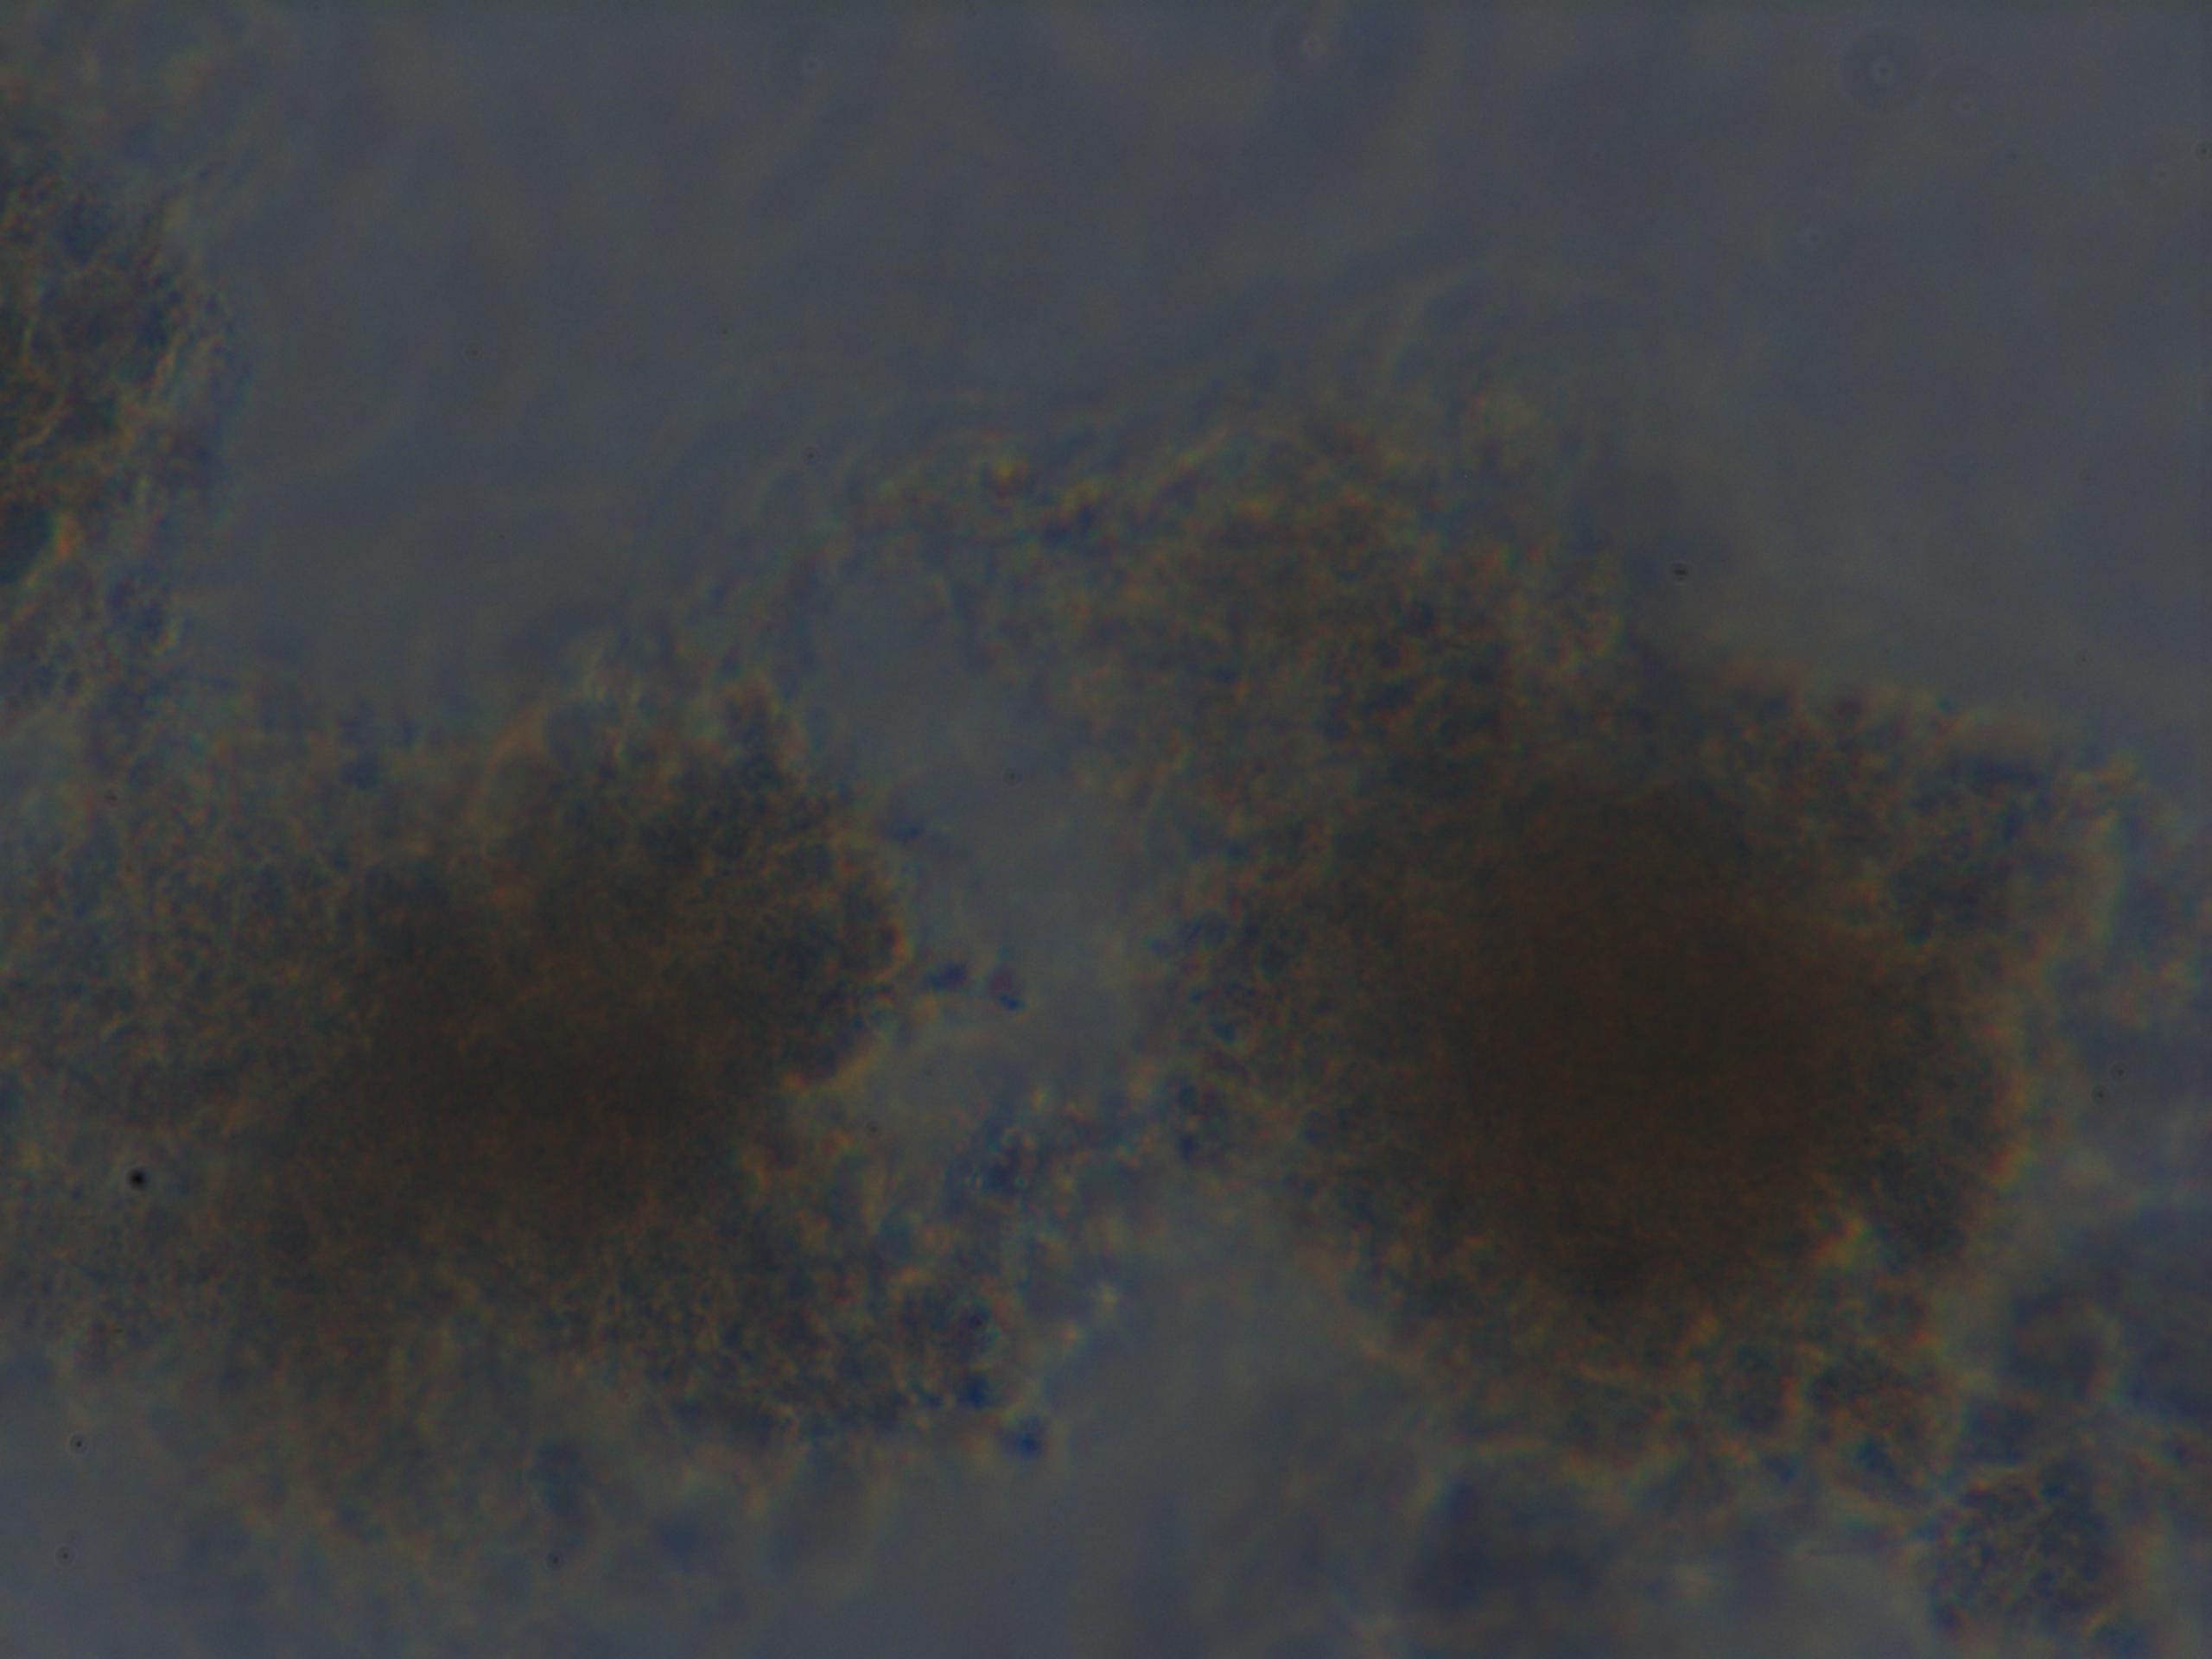spherical_floc: (200, 706, 907, 1387), (1273, 721, 1984, 1370)
